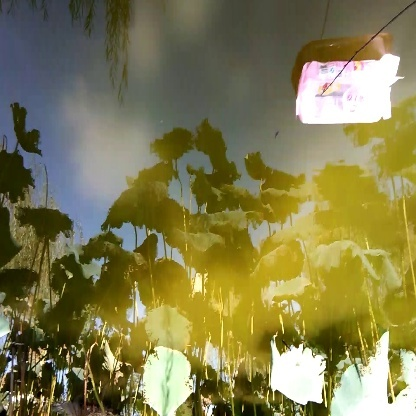plastic-bag: (289, 51, 406, 127)
